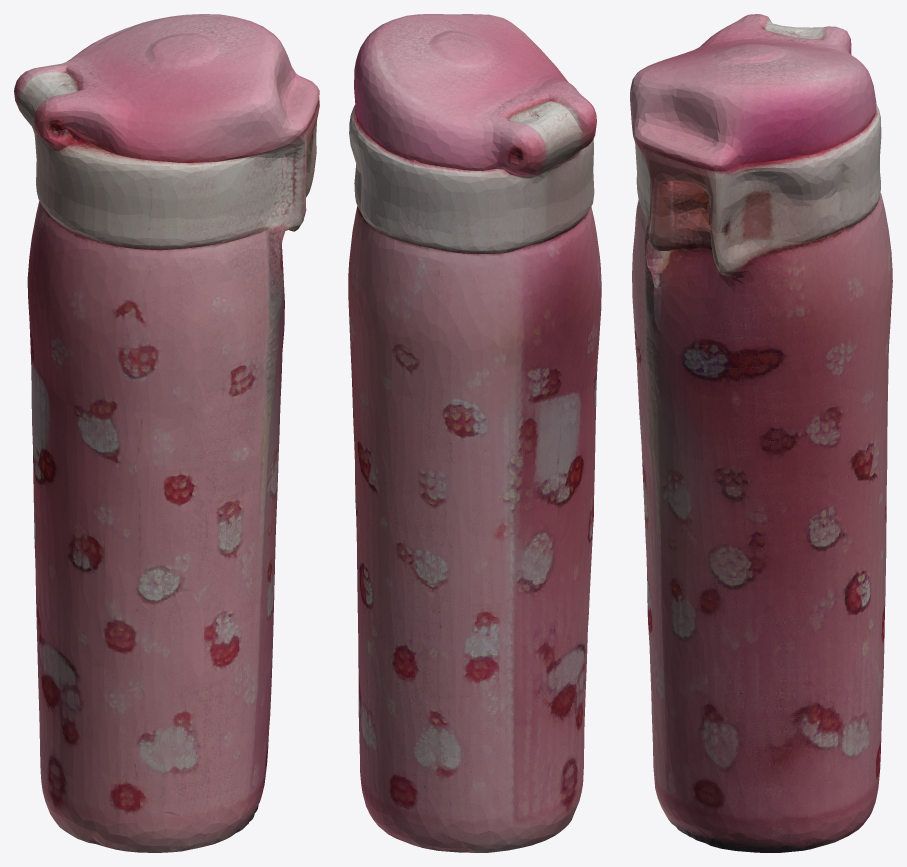
The model's file is sample_cup.glb.
3 views of the same model, side by side, from view 1: azimuth 30°, elevation 25°; view 2: azimuth 150°, elevation 25°; view 3: azimuth 270°, elevation 25° (orthographic).
Parts seen in each view (by area): view 1: world; view 2: world; view 3: world.
Boxes of the visible parts, bbox=[...] form: world: bbox=[14, 14, 319, 852]; world: bbox=[348, 14, 601, 852]; world: bbox=[630, 14, 892, 852].
Bounding box in the file's own units: 0.3508 × 0.9966 × 0.3072.
Materials: 1 (1 with a texture image).
